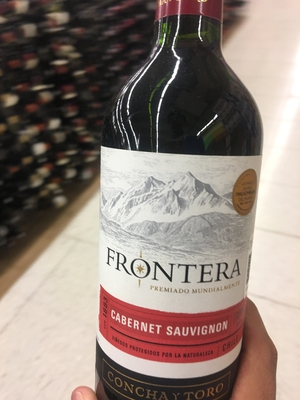frontera cabernet sauvignon: (90, 13, 265, 400)
